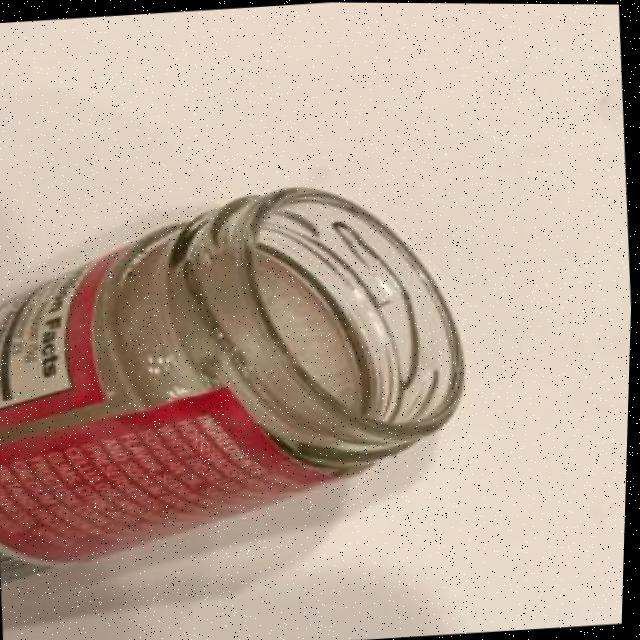glass: (0, 170, 500, 594)
